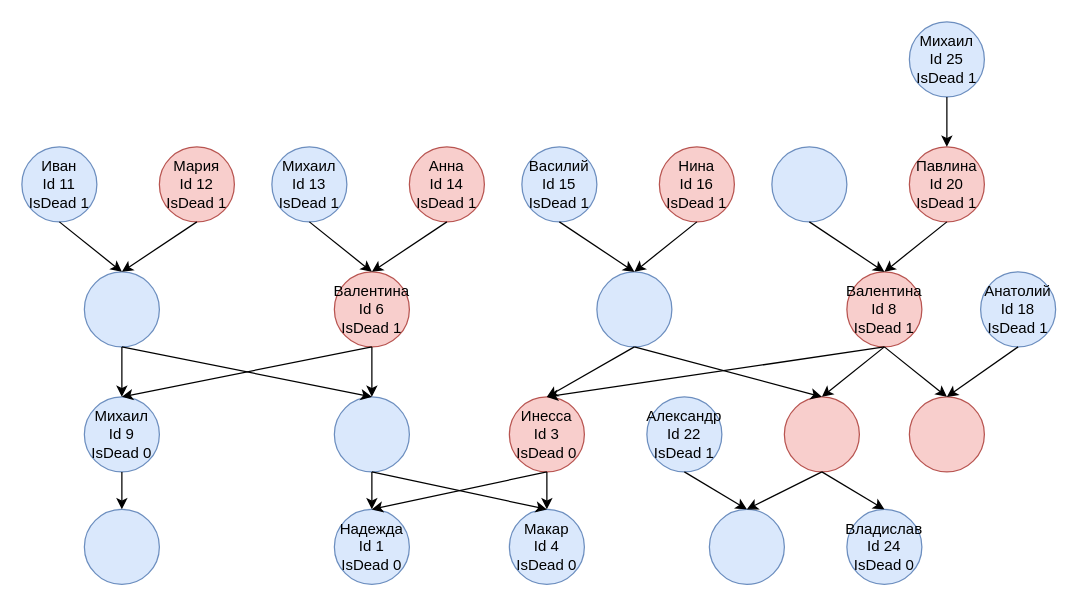
The diagram is 1078 pixels wide and 606 high, and some of its shapes have lost their labels. The shapes that lost their labels are listed below. From the top down, each one's centre as x and y in pixels, then its label:
point 809,184: Викентий Id 19 IsDead 1
point 121,309: Александр Id 5 IsDead 0
point 634,309: Илья Id 7 IsDead 1
point 371,434: Александр Id 2 IsDead 0
point 821,434: Ольга Id 10 IsDead 0
point 946,434: Ирина Id 17 IsDead 0
point 121,546: Максим Id 21 IsDead 0
point 746,546: Артем Id 23 IsDead 0
